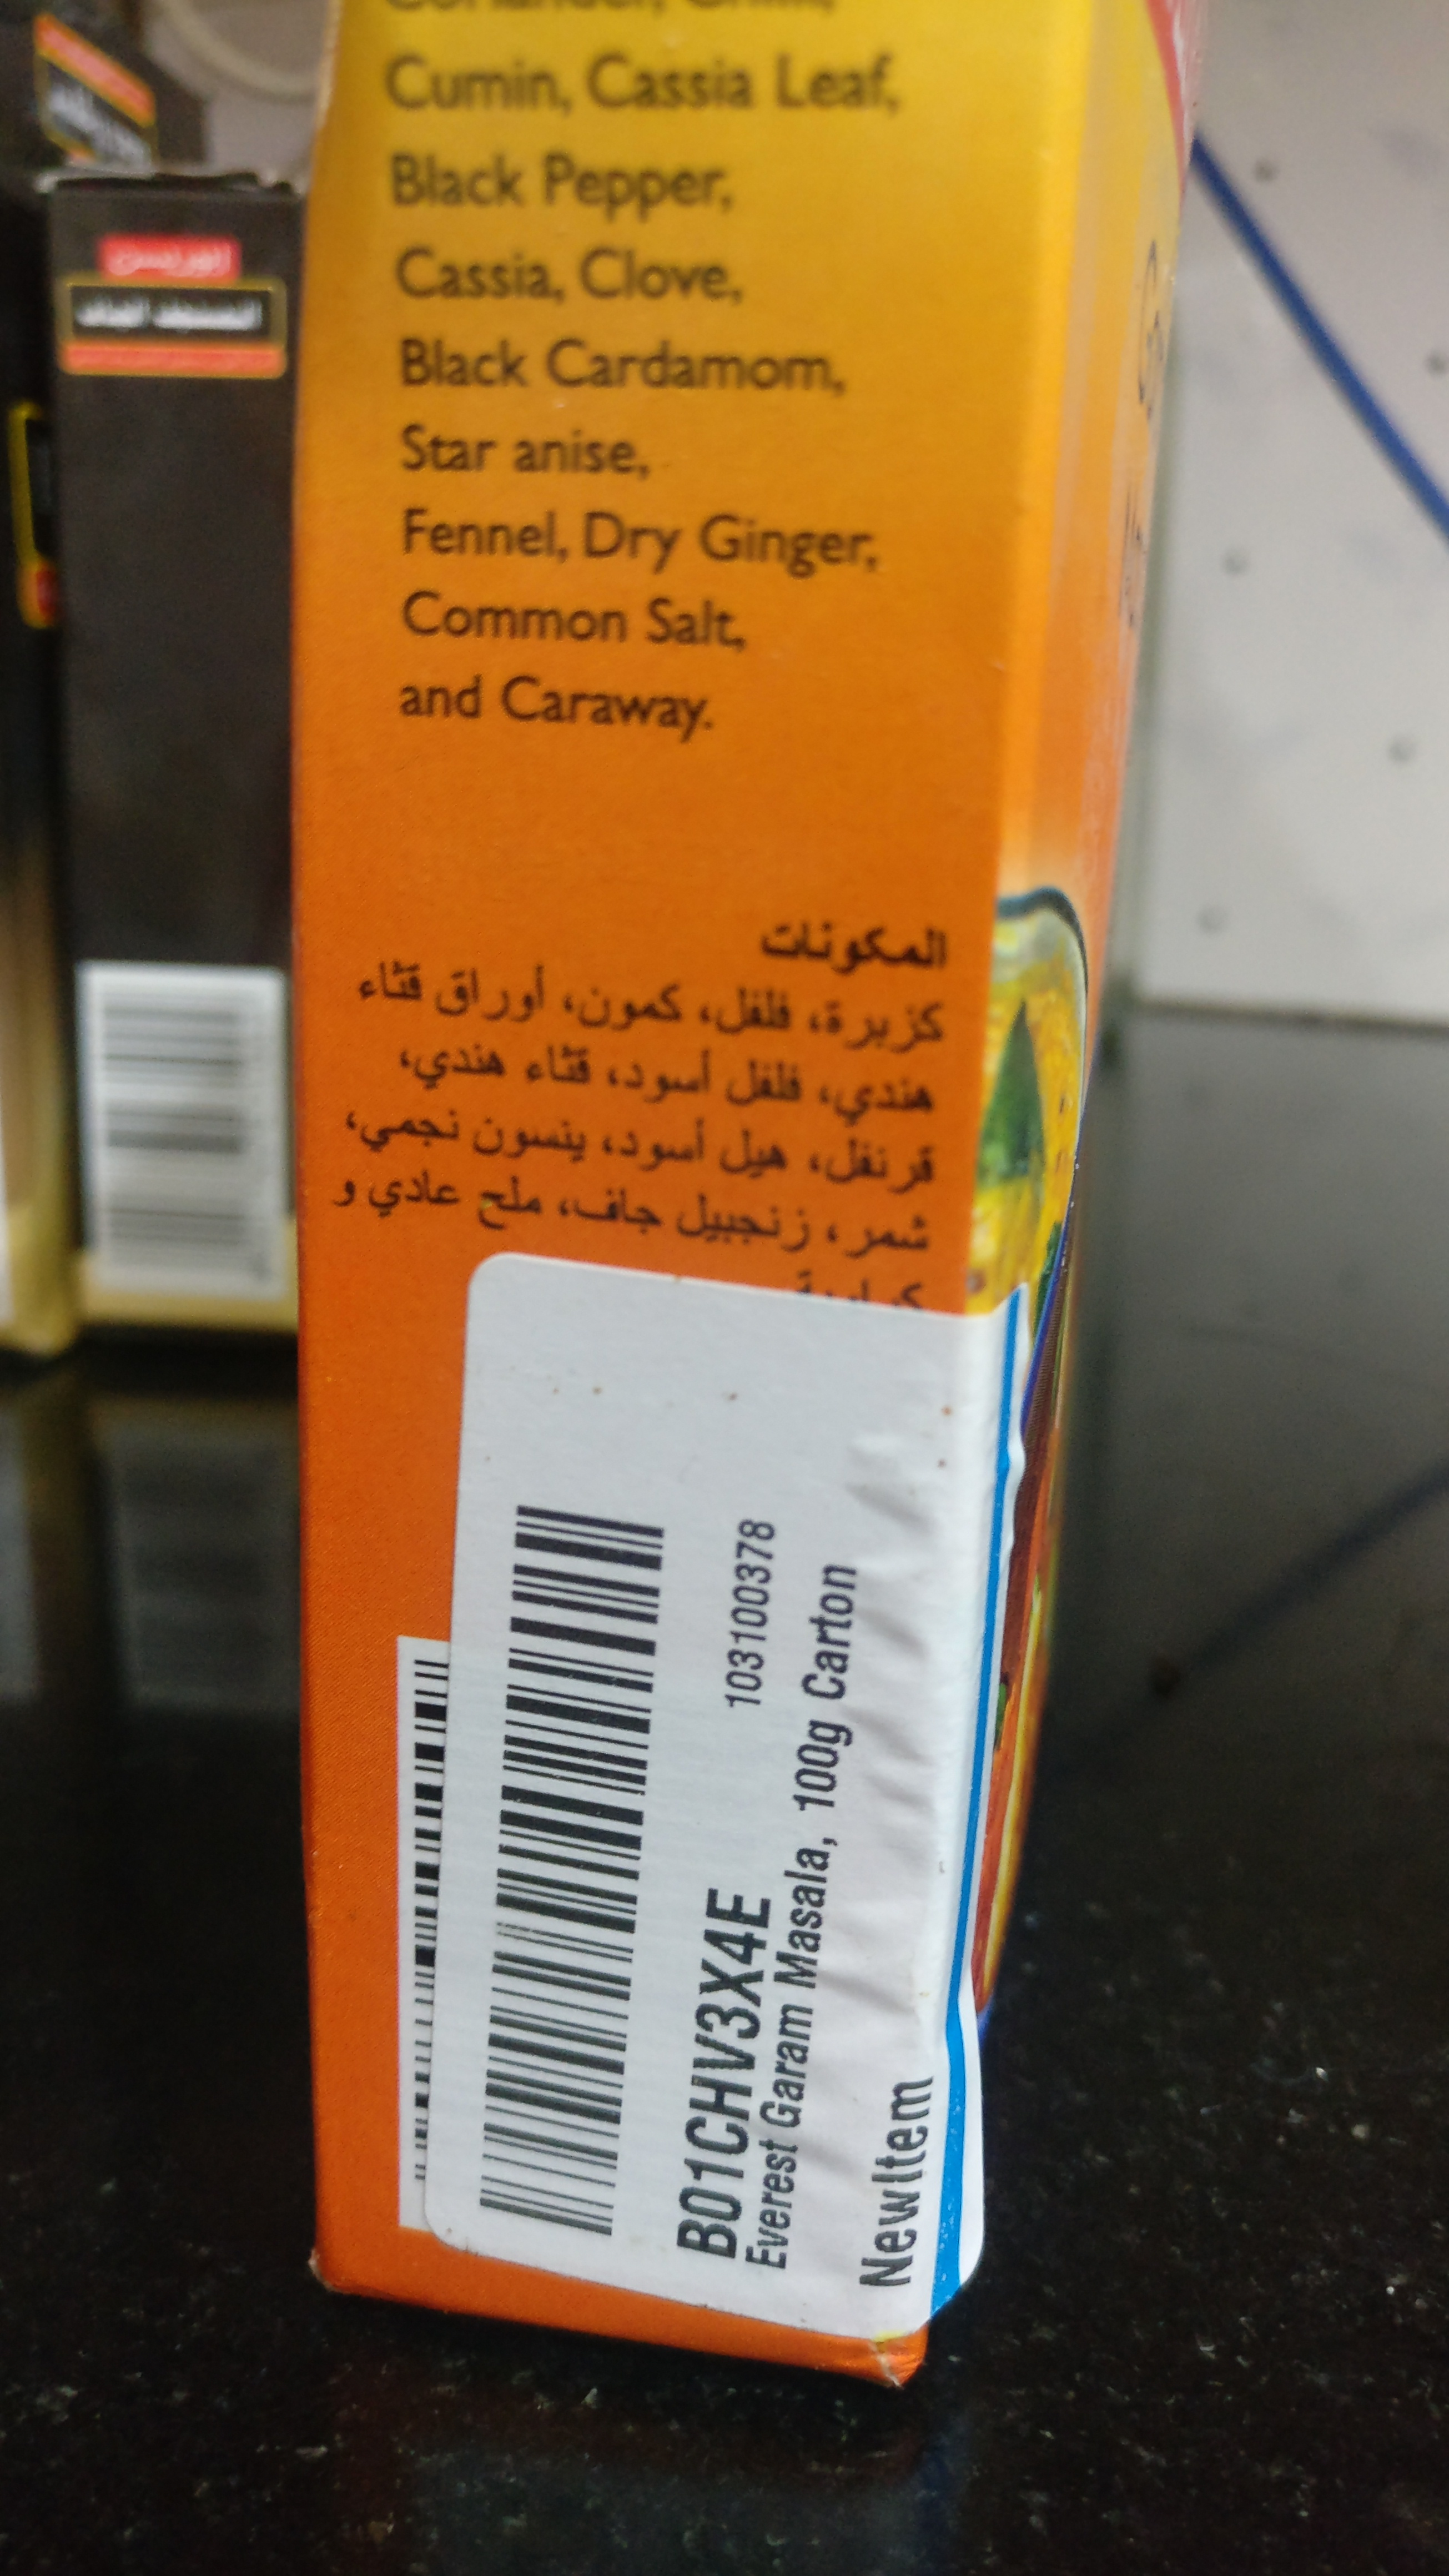barcode: (433, 1313, 676, 2298)
